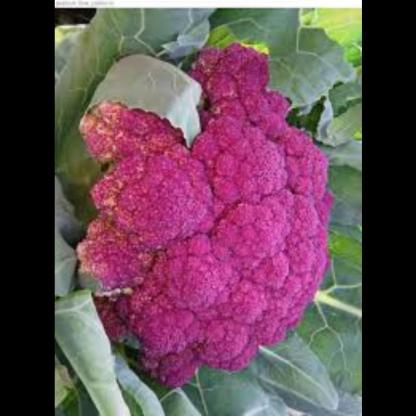cayliflower: (82, 41, 341, 389)
